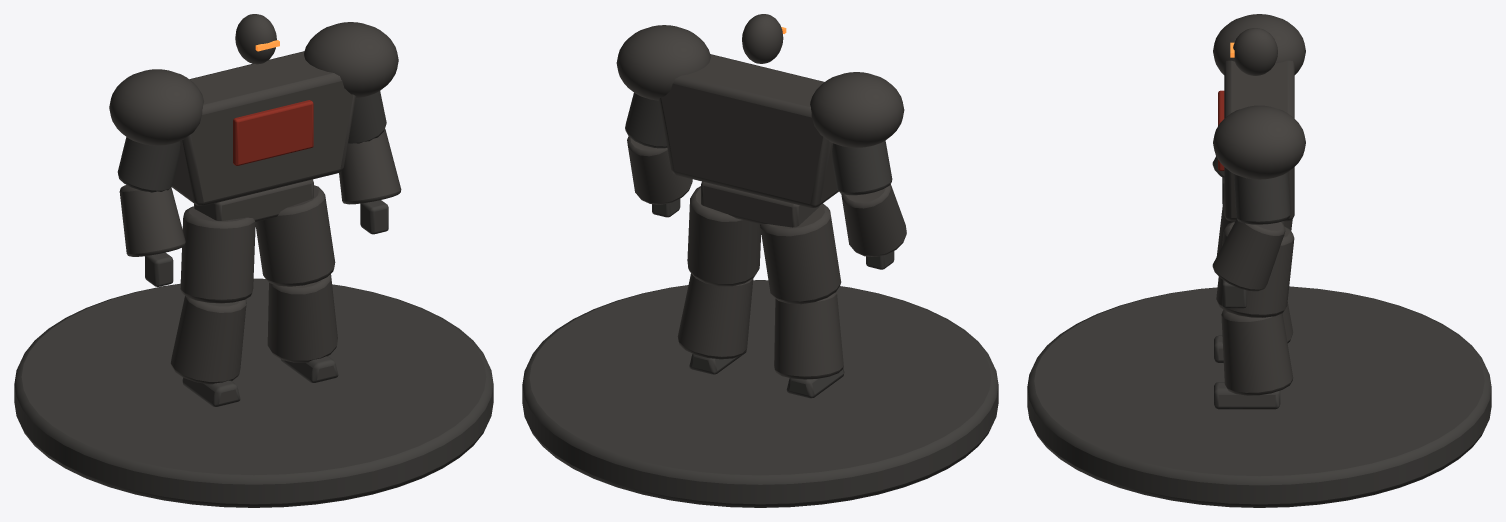
Rendered from foundries_frame_bulwark.glb.
3 renders of one model, left to right at view 1: azimuth 30°, elevation 25°; view 2: azimuth 150°, elevation 25°; view 3: azimuth 270°, elevation 25°, orthographic. The views are drawn at different scales.
Parts seen in each view (by area): view 1: standin_base.006, standin_torso.006, standin_thigh_R.006, standin_pauldron_R.006, standin_thigh_L.006, standin_shin_R.006, standin_shin_L.006, standin_pauldron_L.006, tp.006, standin_forearm_R.006, standin_forearm_L.006, standin_arm_R.006 (+7 smaller); view 2: standin_base.006, standin_torso.006, standin_thigh_R.006, standin_pauldron_R.006, standin_thigh_L.006, standin_shin_R.006, standin_shin_L.006, standin_pauldron_L.006, standin_forearm_R.006, standin_pelvis.006, standin_forearm_L.006, standin_arm_R.006 (+4 smaller); view 3: standin_base.006, standin_pauldron_L.006, standin_shin_L.006, standin_torso.006, standin_forearm_L.006, standin_pauldron_R.006, standin_thigh_L.006, standin_arm_L.006, standin_helm.006, standin_foot_L.006, standin_hand_L.006.
Part boxes in pixels (x1,y1,x2,y2): standin_base.006: (14,278,493,507); standin_torso.006: (172,51,356,205); standin_thigh_R.006: (180,206,255,303); standin_pauldron_R.006: (109,69,203,145); standin_thigh_L.006: (255,185,335,286); standin_shin_R.006: (170,296,246,384); standin_shin_L.006: (267,274,337,362); standin_pauldron_L.006: (304,22,398,98); tp.006: (233,100,313,165); standin_forearm_R.006: (119,185,185,256); standin_forearm_L.006: (339,129,401,204); standin_arm_R.006: (117,137,180,192); standin_base.006: (522,280,998,507); standin_torso.006: (659,54,838,207); standin_thigh_R.006: (760,203,841,304); standin_pauldron_R.006: (810,72,904,147); standin_thigh_L.006: (687,186,761,286); standin_shin_R.006: (774,291,843,379); standin_shin_L.006: (677,273,753,359); standin_pauldron_L.006: (616,25,710,100); standin_forearm_R.006: (841,184,906,256); standin_pelvis.006: (701,181,819,227); standin_forearm_L.006: (627,136,692,204); standin_arm_R.006: (832,140,892,195); standin_base.006: (1027,286,1491,507); standin_pauldron_L.006: (1213,105,1305,179); standin_shin_L.006: (1221,310,1293,395); standin_torso.006: (1224,60,1294,221); standin_forearm_L.006: (1212,219,1285,291); standin_pauldron_R.006: (1213,14,1305,74); standin_thigh_L.006: (1216,221,1294,317); standin_arm_L.006: (1234,172,1290,224); standin_helm.006: (1233,28,1277,75); standin_foot_L.006: (1214,382,1280,409); standin_hand_L.006: (1222,279,1246,308).
Bounding box in the file's own units: 40 × 36.43 × 40.
